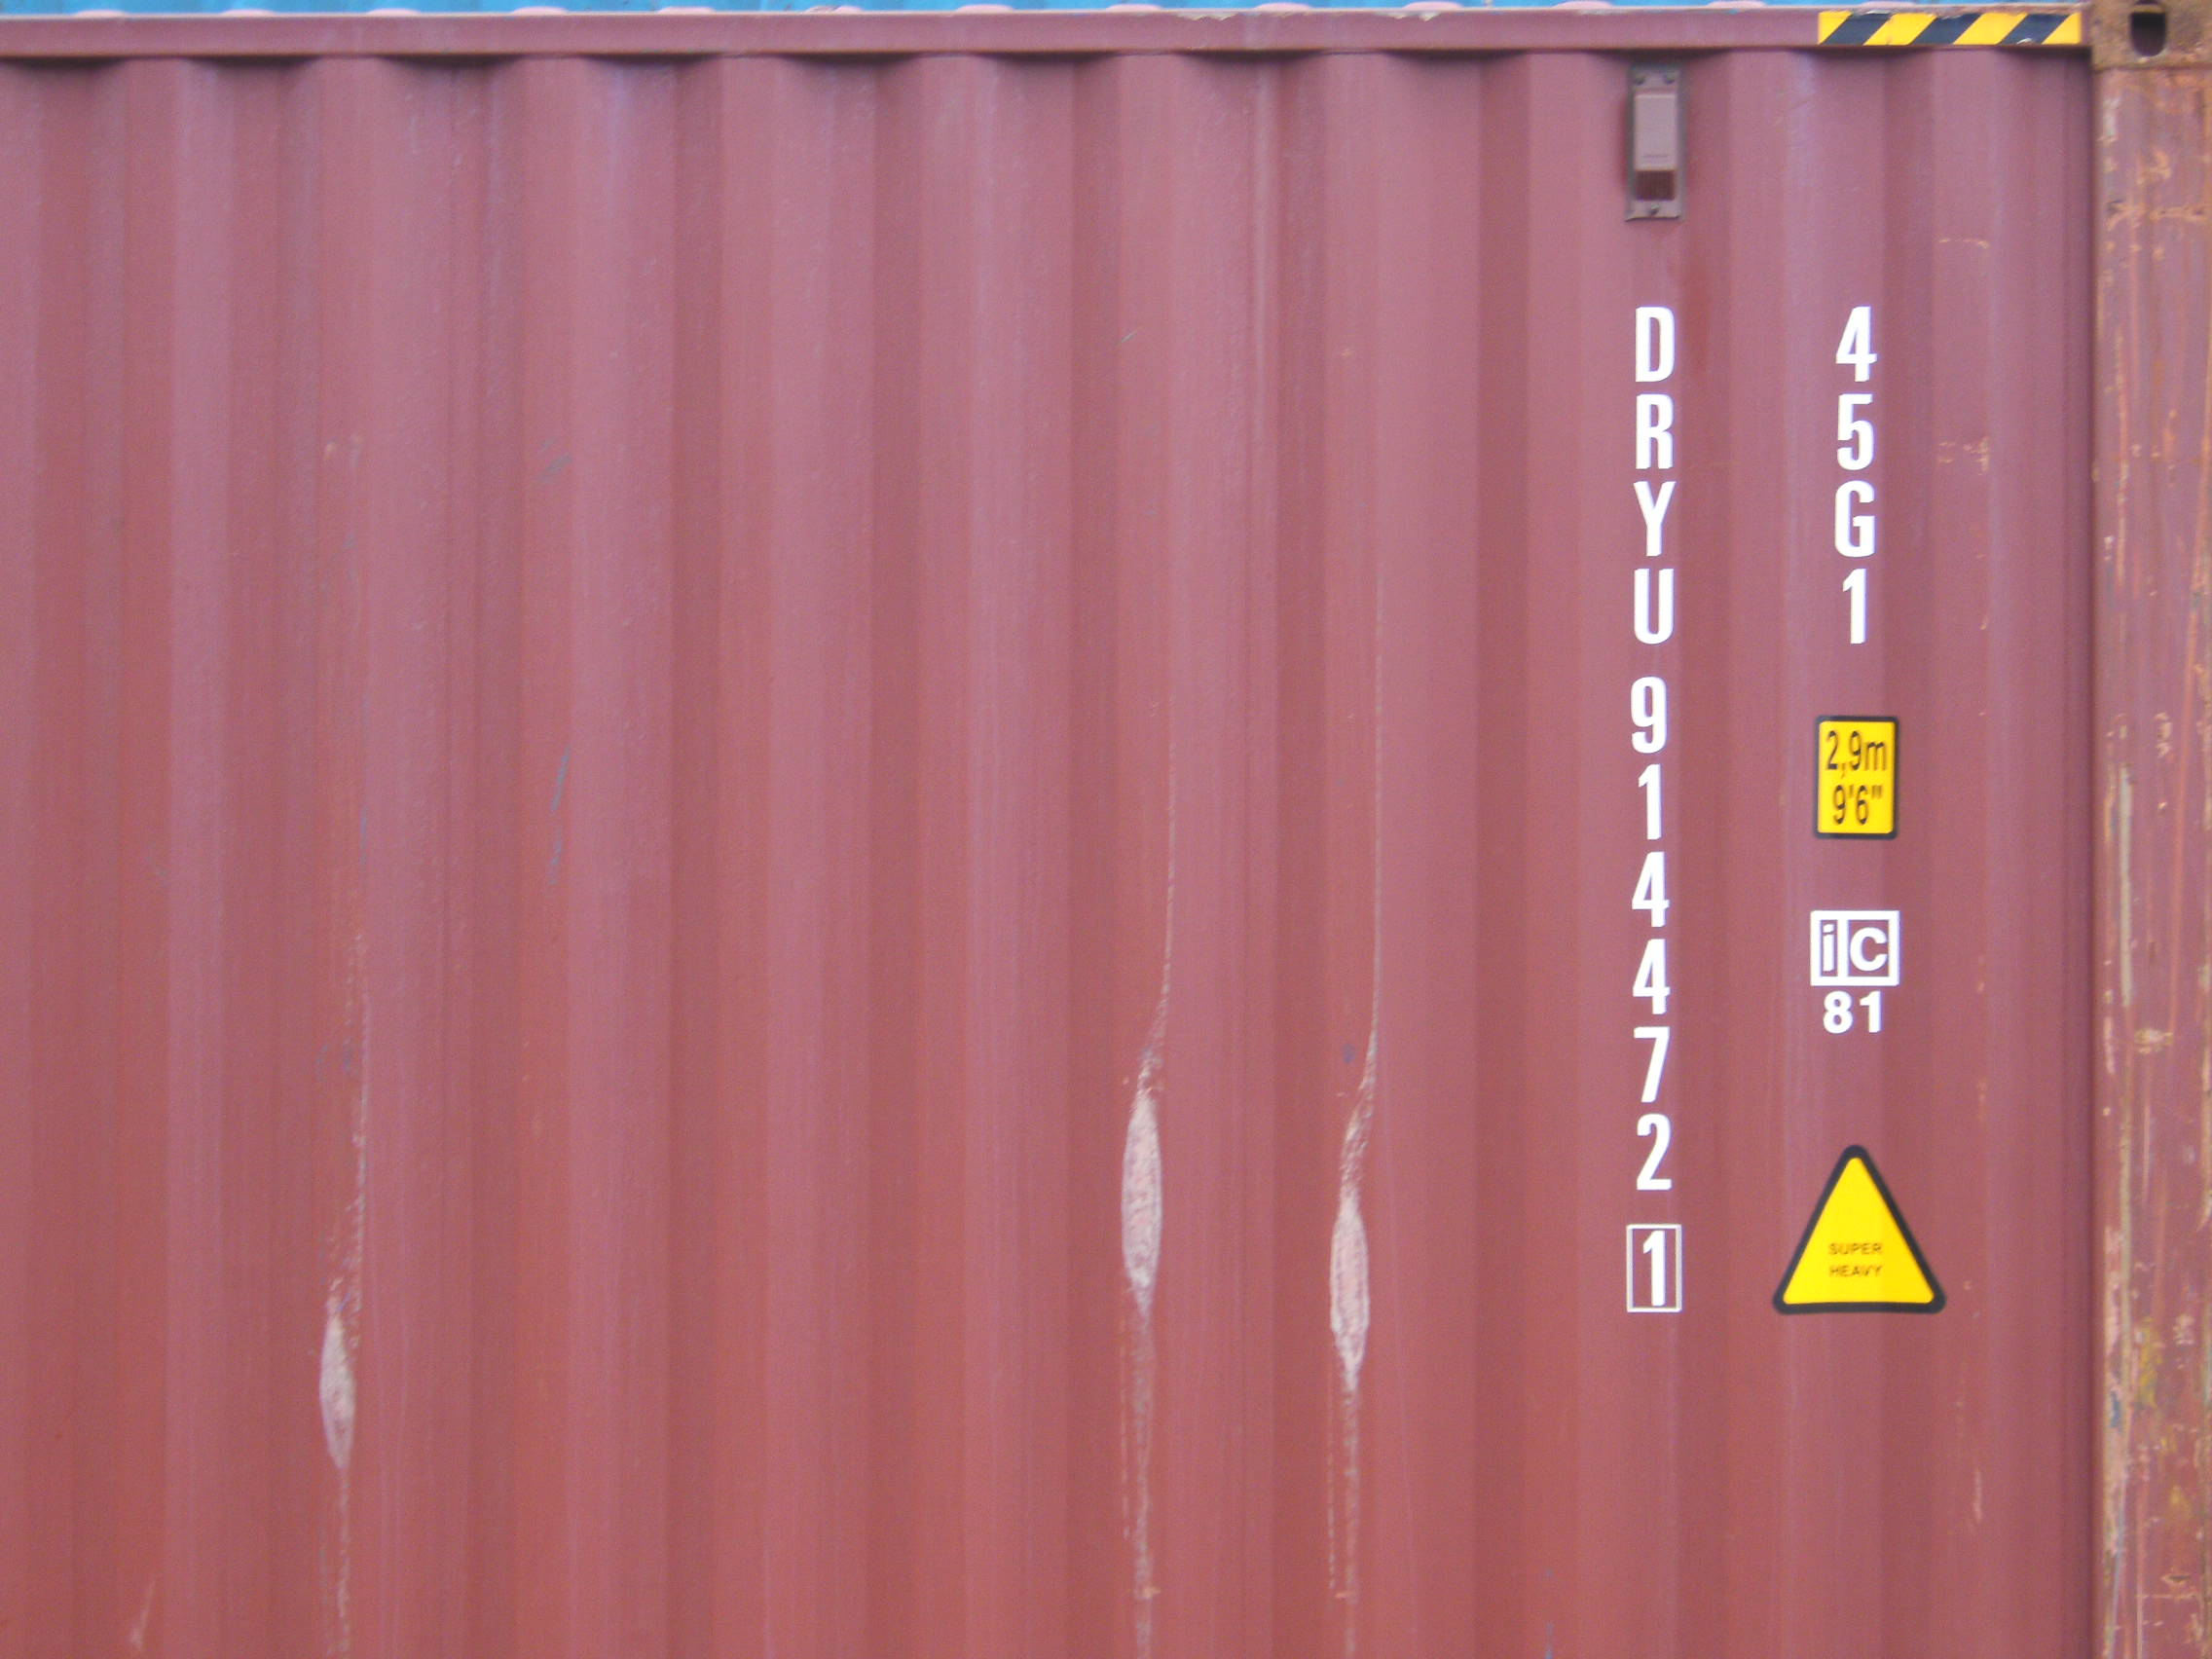container_no_door: (108, 115, 1961, 1624)
